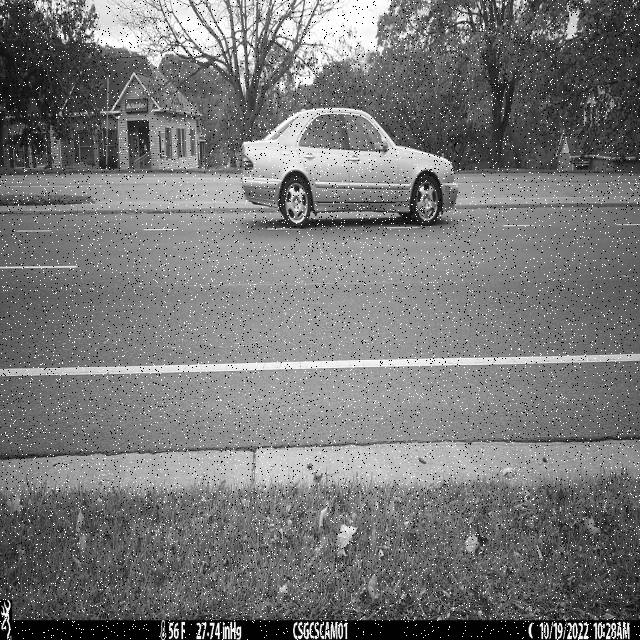Sedan: (241, 107, 459, 229)
